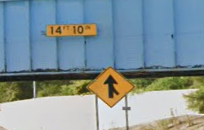0: (76, 24, 84, 35)
1: (70, 24, 77, 35), (49, 25, 55, 36)
4: (53, 24, 63, 36)
overheadsign: (46, 24, 97, 37)
